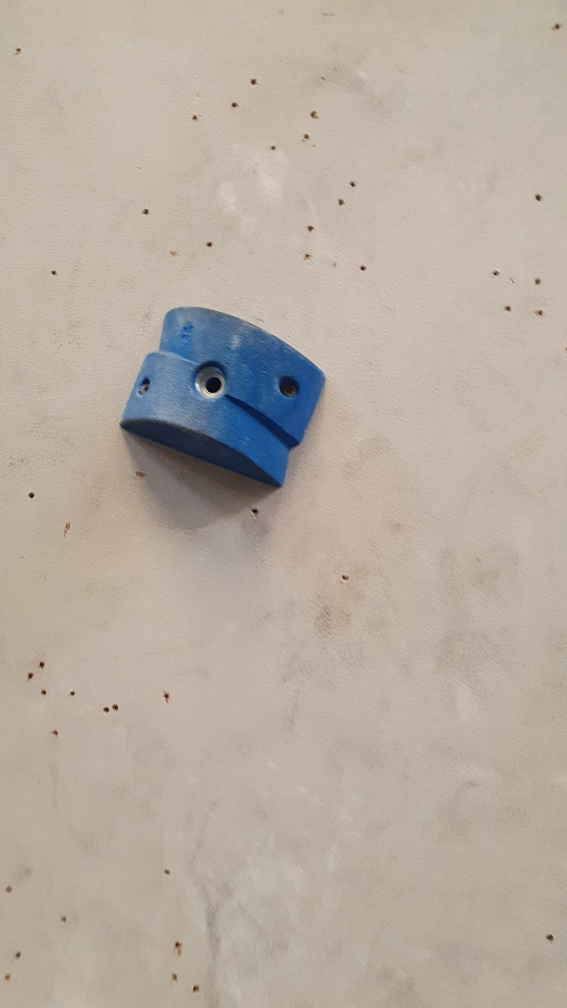Pinch: (115, 302, 326, 497)
